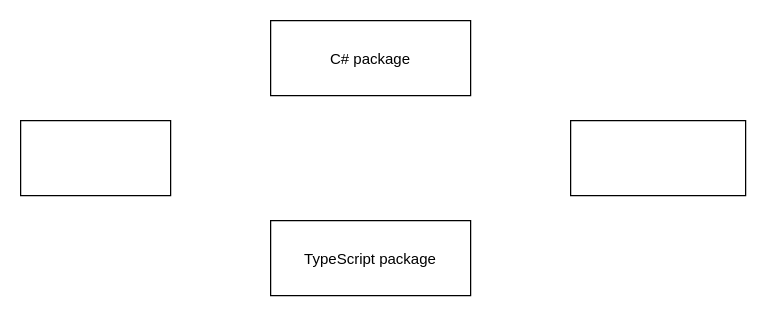
Image size: 766x316. Some labels were removed from this diagram. The shapes that lost their labels are listed below. From the top down, each one's centre as x and y in pixels, then its label:
the point at 95,157: Caller
the point at 657,157: Golden fixture
